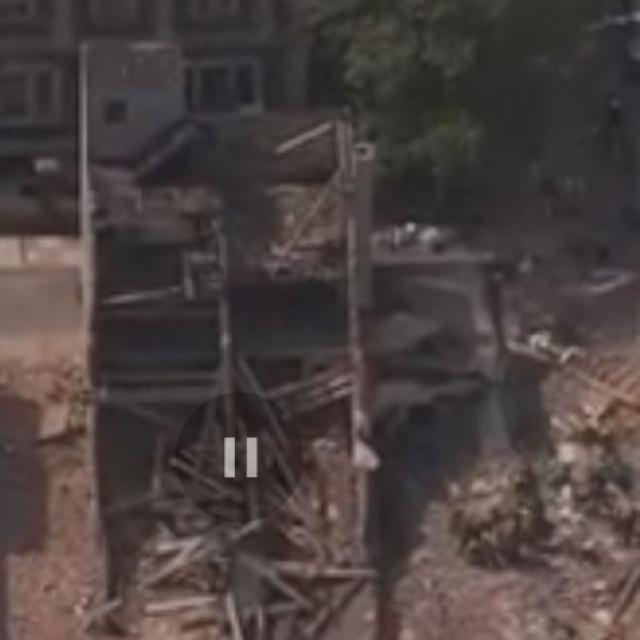collapsed_building: (85, 54, 491, 638)
